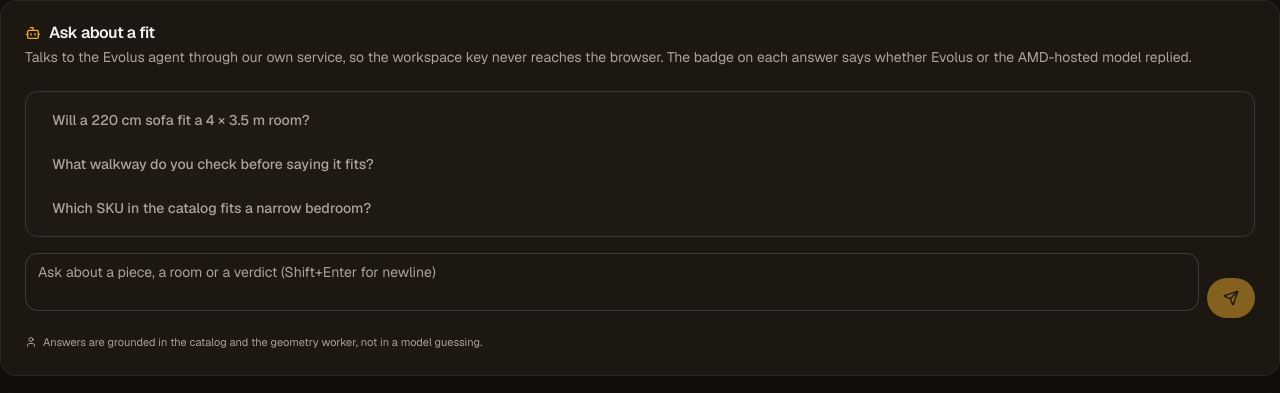
AgentChat › names the AMD model when Evolus did not reply
This screenshot has width=1280, height=393.
Click the button "Will a 220 cm sofa fit a 4 × 3.5 m room?" at (181, 120), box [38,104,1242,136]
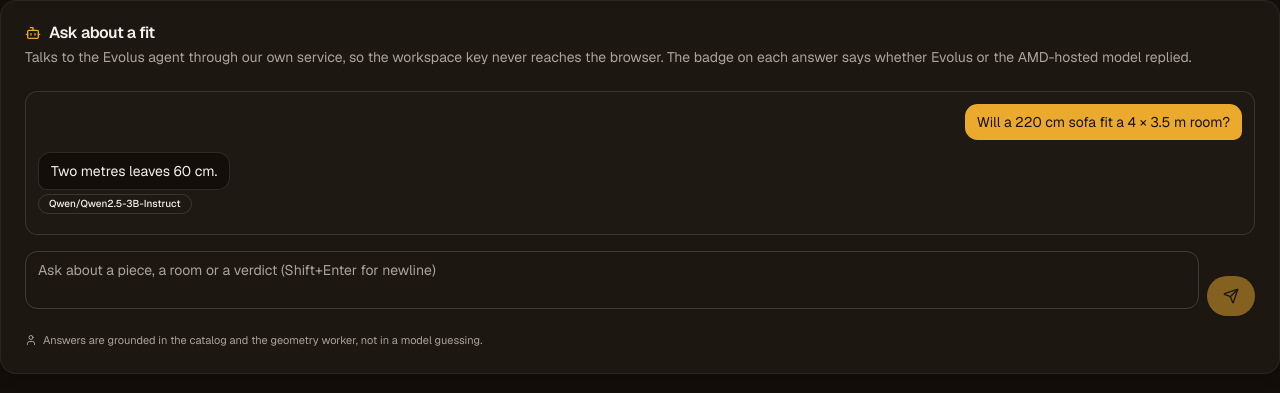
Now the text "Two metres leaves 60 cm." is shown, box [38,152,230,190]
Now the text "Qwen/Qwen2.5-3B-Instruct" is shown, box [38,194,192,214]
